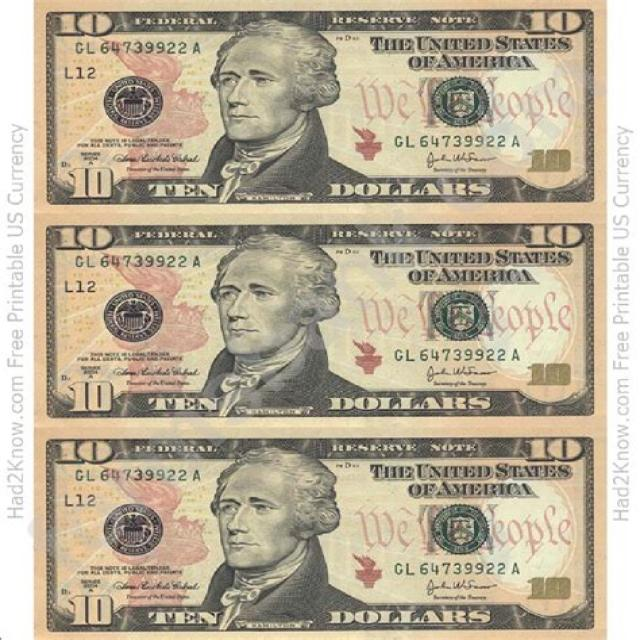Ten: (33, 212, 606, 429), (33, 429, 608, 640), (30, 0, 604, 211)
